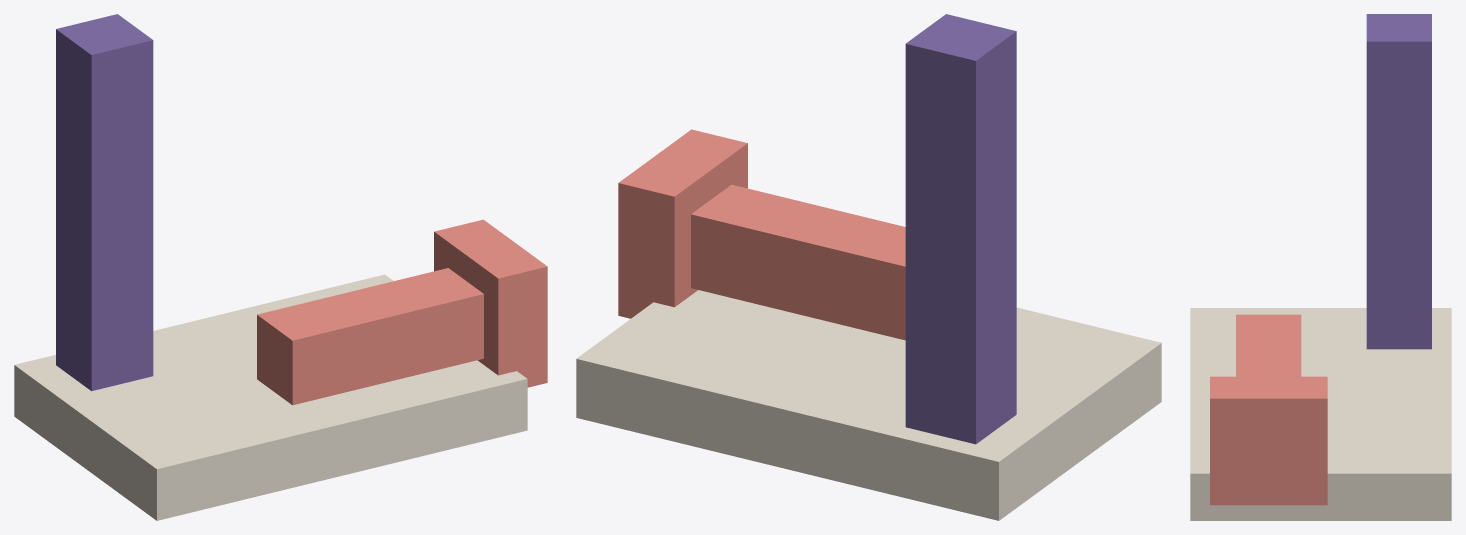
The model's file is sample.glb.
The picture shows the model from 3 angles, left to right: view 1: azimuth 30°, elevation 25°; view 2: azimuth 150°, elevation 25°; view 3: azimuth 270°, elevation 25°; orthographic projection. The views are drawn at different scales.
Visible parts, largest first — view 1: slab, post, shaft, head; view 2: slab, post, shaft, head; view 3: slab, post, head, shaft.
Part boxes in pixels (<box>): slab: <box>14,274,527,520</box>; post: <box>56,14,153,391</box>; shaft: <box>257,268,483,405</box>; head: <box>434,219,547,387</box>; slab: <box>576,290,1161,520</box>; post: <box>905,14,1016,444</box>; shaft: <box>691,184,905,340</box>; head: <box>618,129,747,318</box>; slab: <box>1190,308,1451,520</box>; post: <box>1366,14,1431,349</box>; head: <box>1210,376,1327,505</box>; shaft: <box>1236,314,1301,376</box>.
Bounding box in the file's own units: 0.325 × 0.3 × 0.2.
